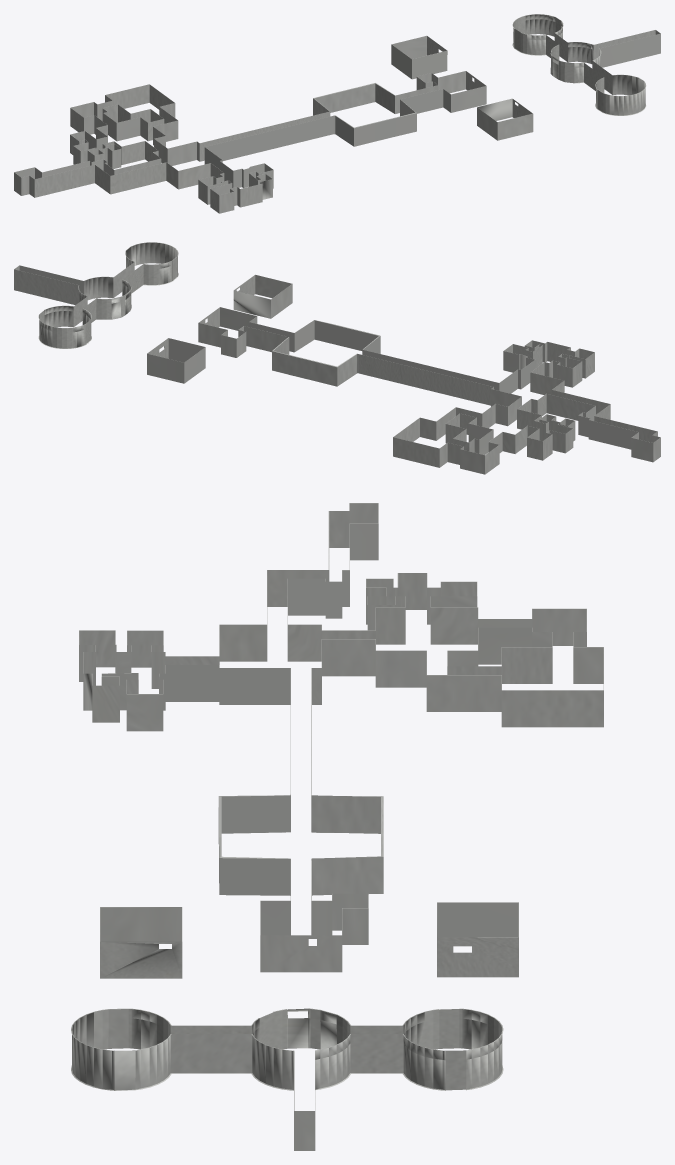
File: level2NewWalls.fbx
3 renders of one model, top to bottom at view 1: azimuth 30°, elevation 25°; view 2: azimuth 150°, elevation 25°; view 3: azimuth 270°, elevation 25°, orthographic. The views are drawn at different scales.
Parts seen in each view (by area): view 1: Level2NewWalls; view 2: Level2NewWalls; view 3: Level2NewWalls.
Part boxes in pixels (x1=…): Level2NewWalls: x1=14, y1=14, x2=660, y2=213; Level2NewWalls: x1=14, y1=242, x2=660, y2=474; Level2NewWalls: x1=71, y1=503, x2=603, y2=1150.
Size of the model in its own units: 21261 by 663 by 7845.
